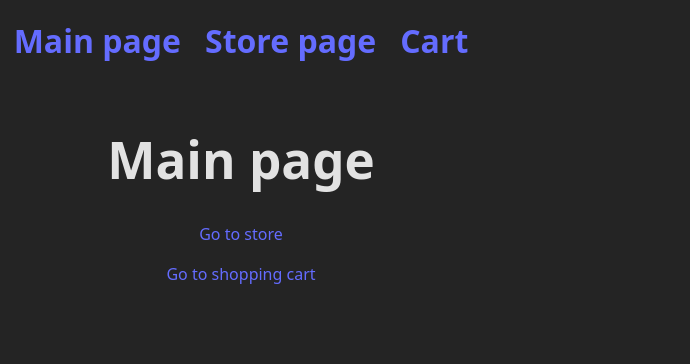
it: main component › navbar links › navigates to cart page
This screenshot has width=690, height=364.
Click the link "Cart": [434, 40] box [400,19,468,62]
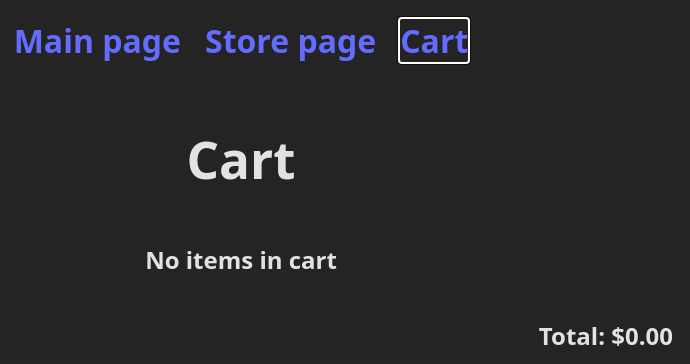
Now the heading "Cart" is shown, box [186,124,296,194]
